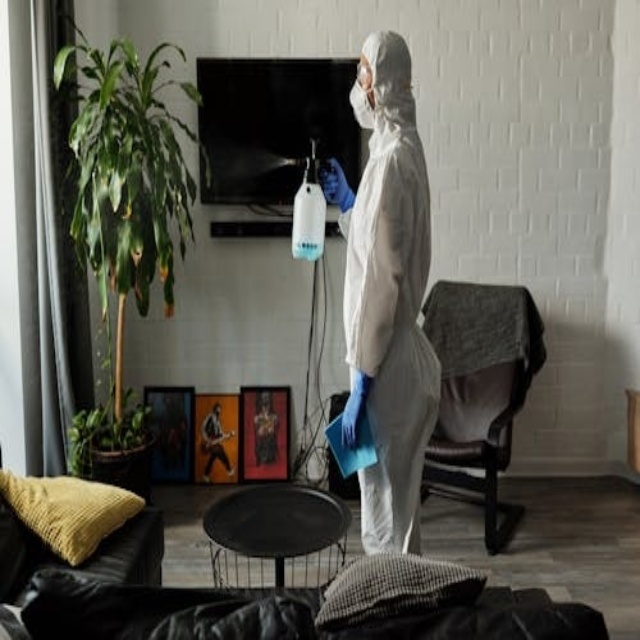Gafas: (356, 63, 372, 89)
Guantes: (341, 369, 371, 449), (319, 157, 355, 214)
Mascara: (349, 79, 375, 130)
